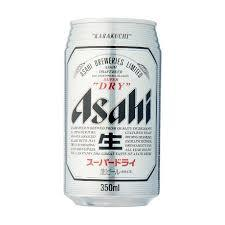beer: (64, 19, 161, 207)
